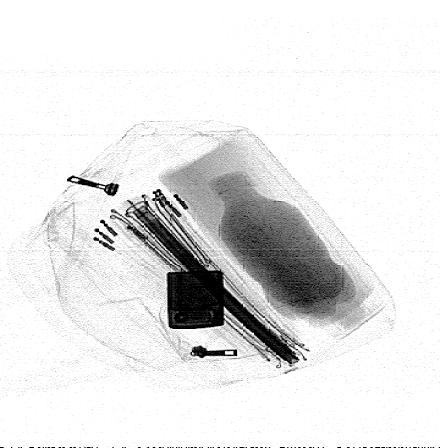Lighter: (167, 271, 224, 330)
